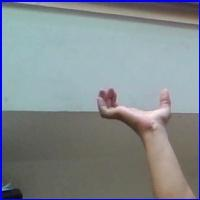space: (94, 82, 181, 129)
